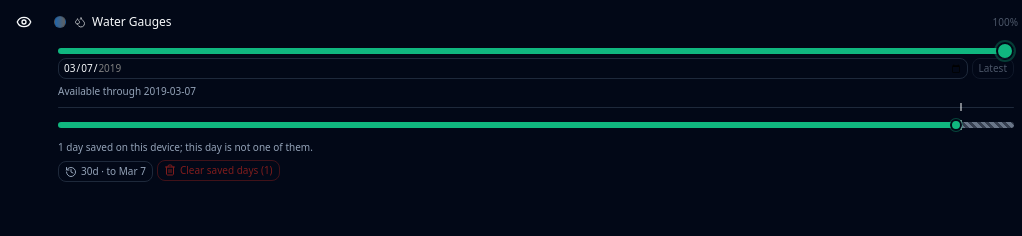
Test: layer sync reset control › requires a second, explicit confirmation before clearing anything
The width and height of the screenshot is (1022, 236).
Click the button with test id "layer-sync-reset-water" at (218, 170), box [157, 160, 280, 180]
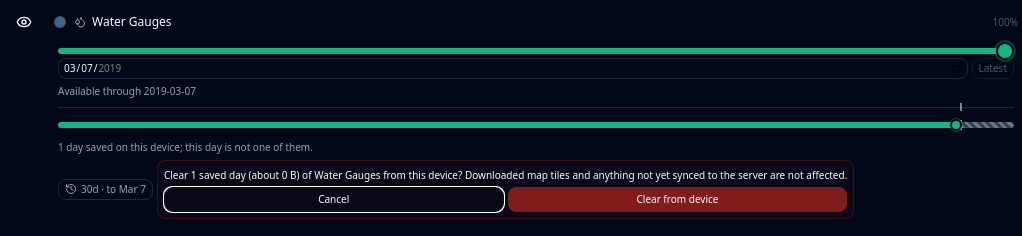
Result: the element with test id "layer-sync-reset-confirm-water" is shown at [157, 160, 854, 219]
Result: the element with test id "layer-sync-reset-confirm-water" shows "Downloaded map tiles" at [381, 168, 847, 182]
Result: the element with test id "layer-sync-reset-confirm-water" shows "not yet synced to the server are not affected" at [381, 168, 847, 182]
